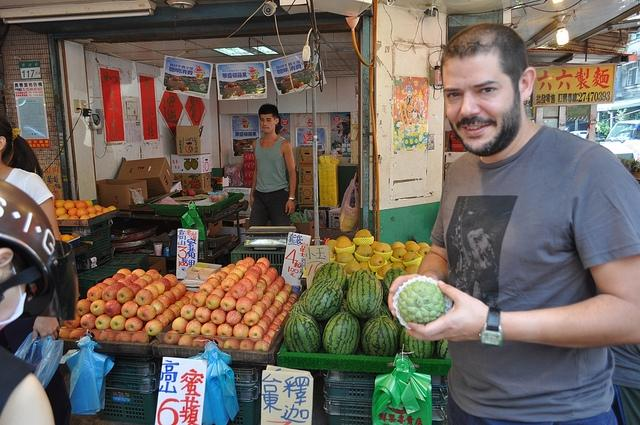apple: (194, 306, 212, 324), (110, 314, 128, 332), (102, 285, 120, 302), (104, 300, 122, 317), (235, 296, 252, 314), (122, 301, 140, 318), (137, 305, 156, 321), (117, 287, 134, 304), (146, 319, 163, 336), (172, 317, 189, 334), (136, 288, 152, 306), (125, 316, 143, 332), (200, 322, 218, 338), (180, 304, 198, 320), (216, 324, 234, 340), (186, 320, 202, 338), (76, 299, 92, 316), (248, 325, 264, 342), (231, 283, 247, 300), (243, 310, 260, 326), (210, 308, 227, 324), (95, 314, 112, 330), (87, 286, 103, 303), (163, 330, 181, 345), (90, 300, 106, 316), (220, 296, 236, 312), (160, 308, 176, 324), (233, 322, 249, 338), (226, 310, 242, 326), (143, 284, 159, 300), (149, 299, 164, 316), (192, 291, 207, 307), (206, 294, 221, 310), (65, 314, 82, 328), (238, 277, 253, 292), (244, 268, 260, 282), (250, 304, 264, 320), (162, 290, 176, 306), (131, 330, 149, 342), (221, 278, 236, 292), (200, 282, 214, 297), (100, 328, 116, 341), (169, 286, 182, 302), (115, 330, 132, 342), (163, 274, 177, 288), (144, 269, 160, 281), (253, 340, 270, 351), (174, 282, 187, 296), (157, 294, 170, 308), (133, 278, 148, 290), (228, 268, 243, 280), (252, 286, 264, 301), (210, 288, 225, 300), (264, 270, 276, 284), (192, 336, 206, 348), (58, 326, 72, 338), (240, 339, 255, 350), (257, 258, 270, 270), (260, 314, 272, 327), (260, 295, 271, 309), (264, 291, 275, 305), (236, 260, 250, 270), (215, 272, 228, 282), (102, 278, 118, 286), (116, 268, 132, 276), (132, 269, 146, 278), (125, 274, 139, 283), (256, 302, 266, 314), (278, 292, 288, 304), (112, 273, 126, 281), (275, 276, 285, 287), (266, 328, 276, 339), (174, 300, 185, 310), (96, 283, 110, 290), (220, 266, 232, 274), (283, 284, 292, 294), (276, 315, 285, 322), (284, 301, 294, 307), (238, 317, 245, 324), (159, 274, 163, 279)
orange: (56, 206, 68, 216), (64, 200, 76, 210), (75, 201, 87, 210), (68, 207, 78, 216), (86, 206, 96, 214), (62, 234, 72, 242), (56, 200, 66, 208), (58, 213, 70, 219), (71, 232, 80, 238), (93, 205, 102, 211), (107, 206, 117, 211), (88, 212, 98, 217), (68, 215, 80, 219), (102, 208, 111, 213)
pear: (344, 260, 363, 276), (356, 244, 374, 257), (336, 251, 354, 264), (392, 247, 408, 261), (369, 254, 385, 267), (336, 238, 354, 249), (378, 265, 392, 278), (404, 264, 420, 275), (354, 229, 372, 238), (404, 252, 419, 262), (375, 243, 391, 252), (390, 242, 406, 251), (405, 243, 420, 252), (418, 246, 430, 257), (392, 262, 406, 270), (404, 240, 416, 247)
watermelon: (304, 278, 344, 322), (322, 312, 361, 354), (361, 315, 400, 357), (347, 274, 382, 320), (284, 314, 322, 352), (311, 262, 348, 296), (399, 326, 436, 358), (382, 268, 408, 306), (347, 270, 375, 292), (289, 300, 306, 318), (437, 340, 451, 360), (376, 305, 392, 320), (336, 299, 350, 313), (298, 288, 308, 301)
